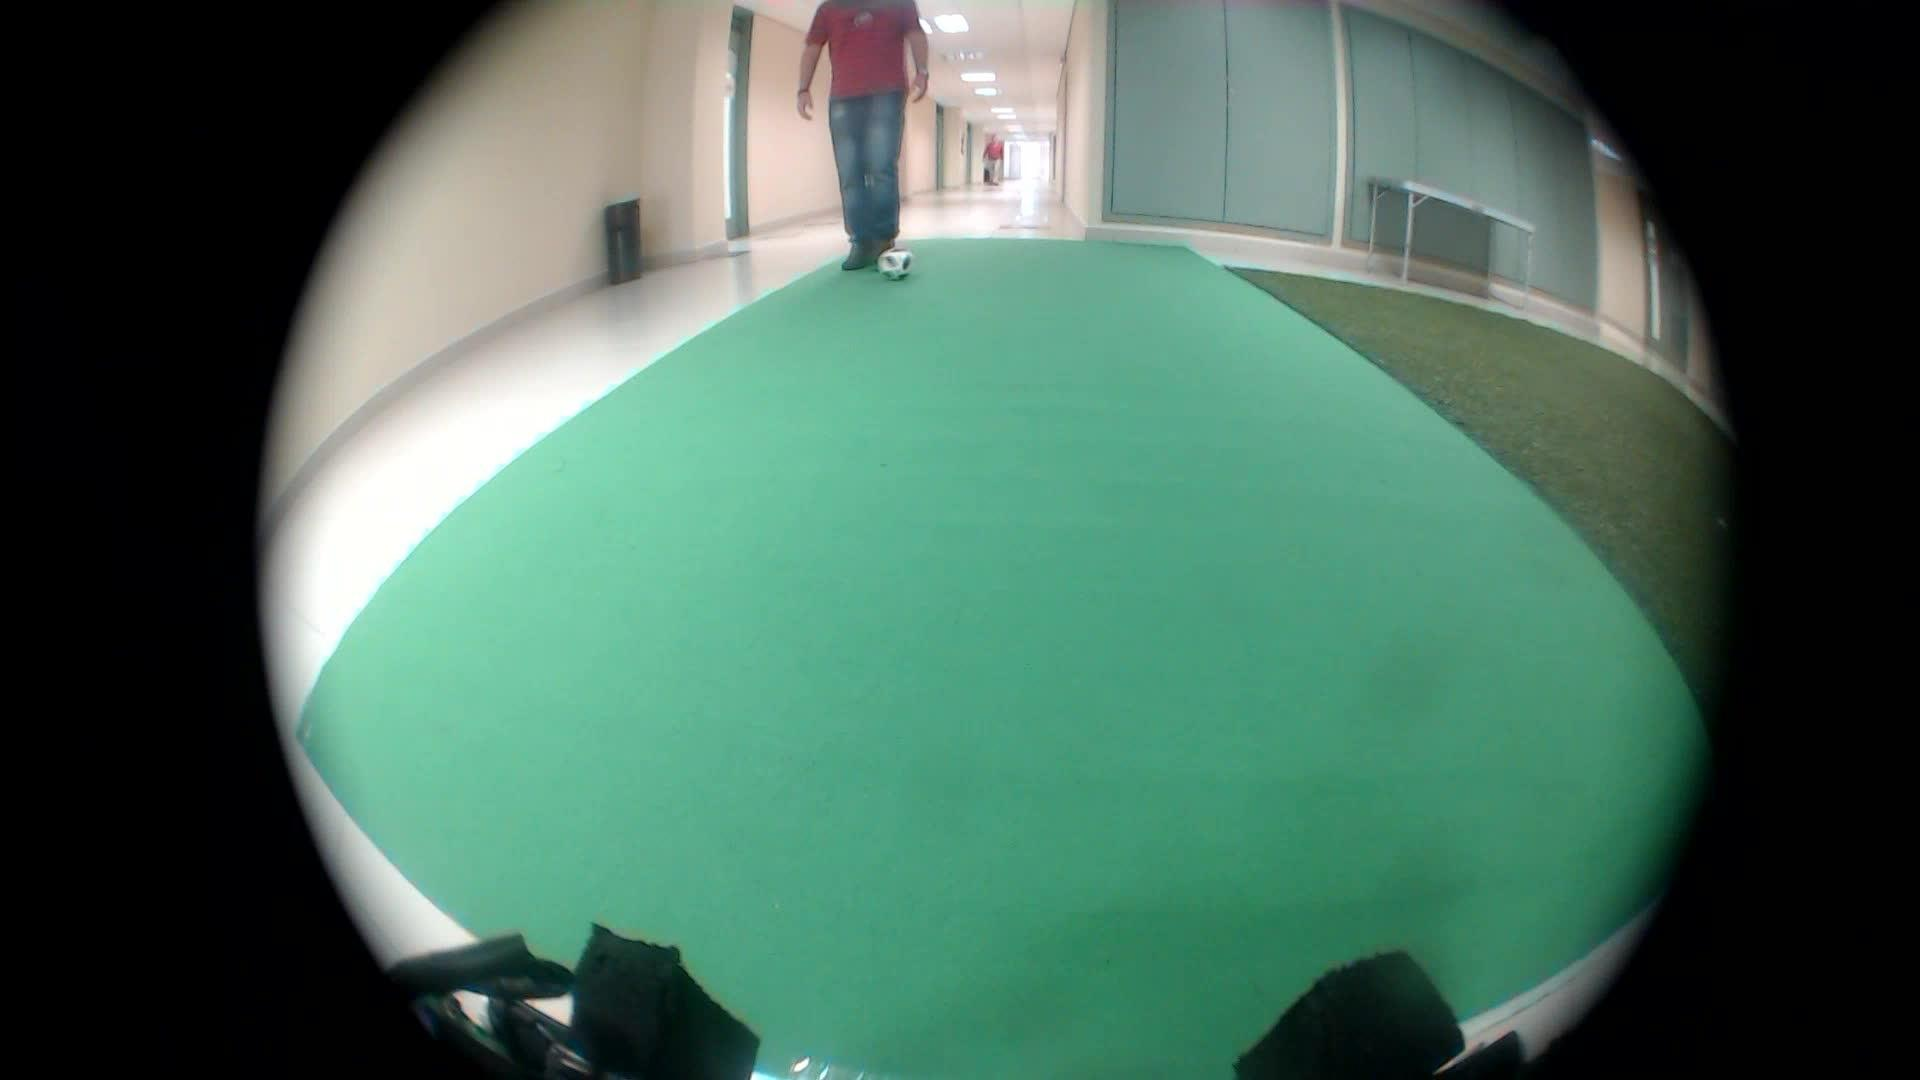ball: (876, 243, 923, 291)
